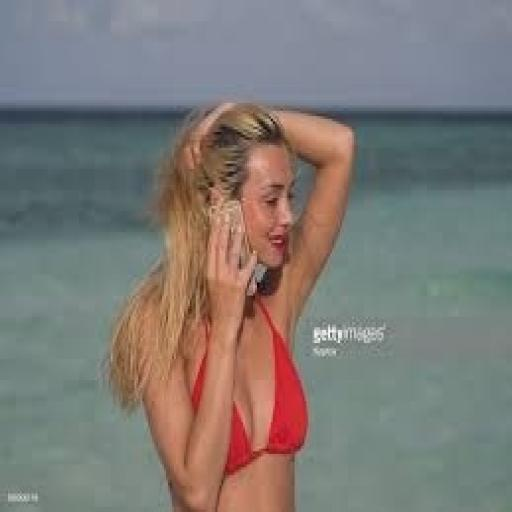calling: (105, 98, 360, 509)
